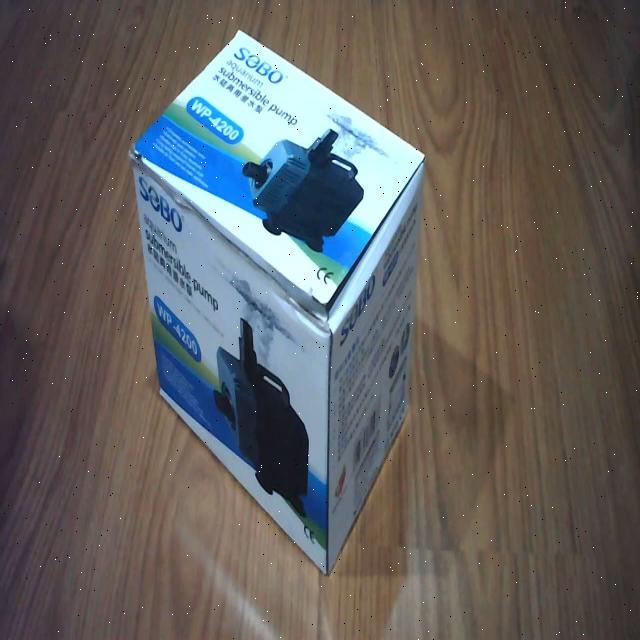SOBO_WP_4200: (124, 20, 429, 584)
